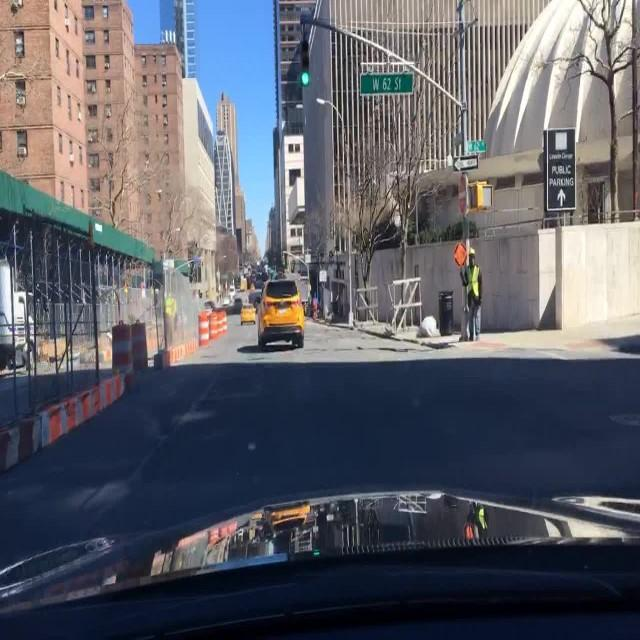normal: (223, 269, 325, 378)
